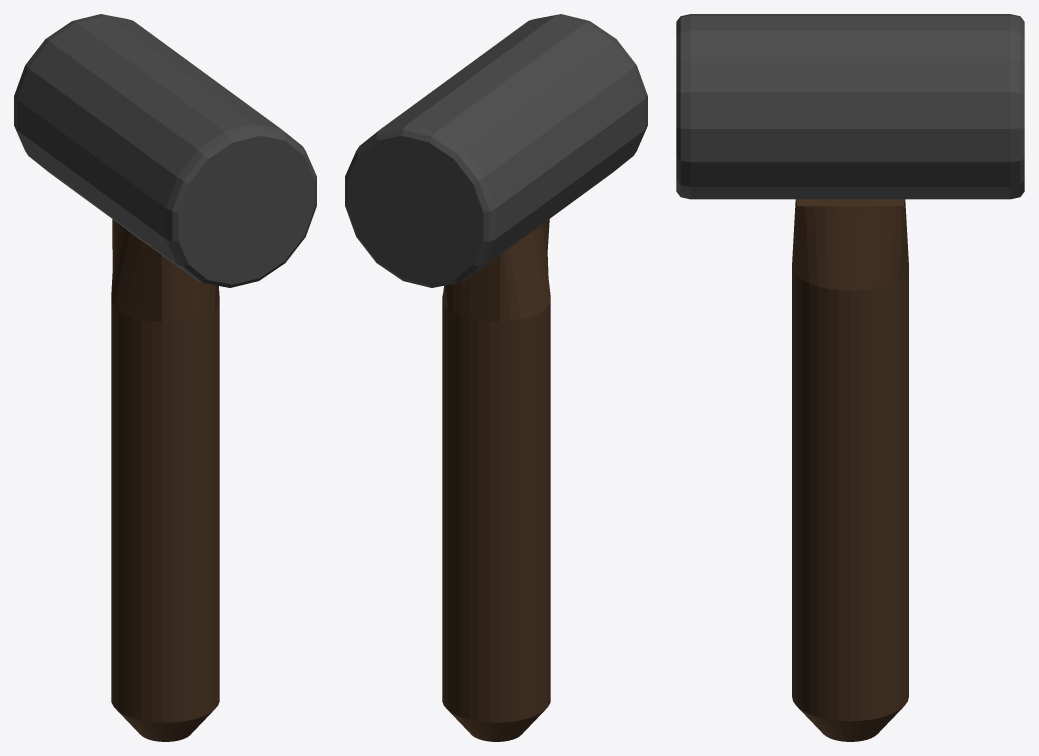
Rendered from Hammer.fbx.
3 views of the same model, side by side, from view 1: azimuth 30°, elevation 25°; view 2: azimuth 150°, elevation 25°; view 3: azimuth 270°, elevation 25° (orthographic). The views are drawn at different scales.
Parts seen in each view (by area): view 1: Cylinder.006; view 2: Cylinder.006; view 3: Cylinder.006.
Part boxes in pixels (x1=…): Cylinder.006: x1=14, y1=14, x2=316, y2=741; Cylinder.006: x1=345, y1=14, x2=647, y2=741; Cylinder.006: x1=676, y1=14, x2=1024, y2=741.
Bounding box in the file's own units: 6.01 × 25.47 × 11.38.
